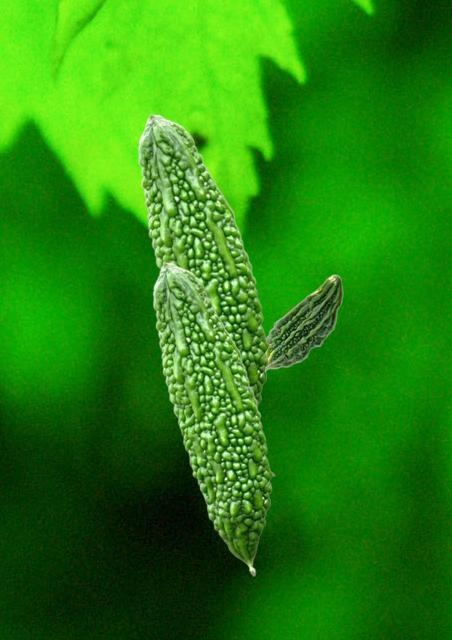ampalaya: (135, 111, 273, 407), (151, 260, 275, 576), (266, 272, 343, 371)
